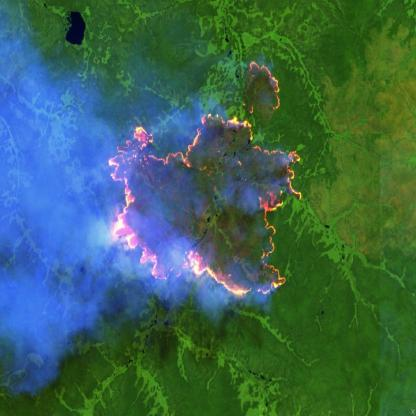fire: (110, 54, 303, 300)
